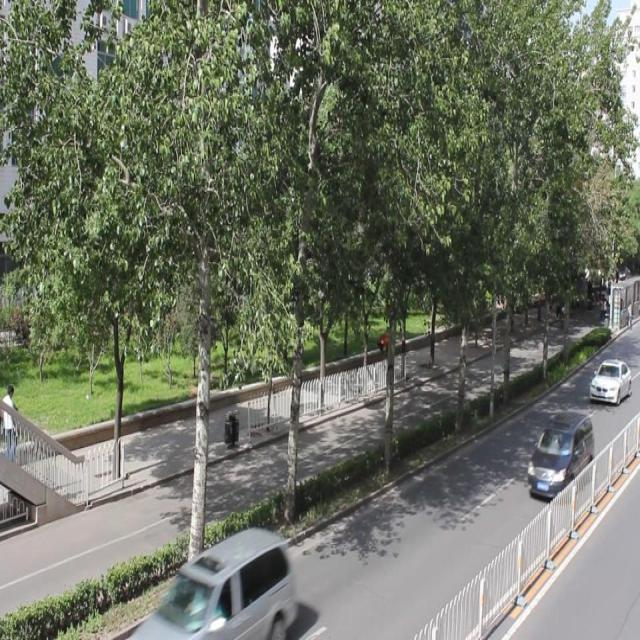car: (149, 530, 295, 640), (525, 408, 593, 497), (587, 358, 630, 404)
